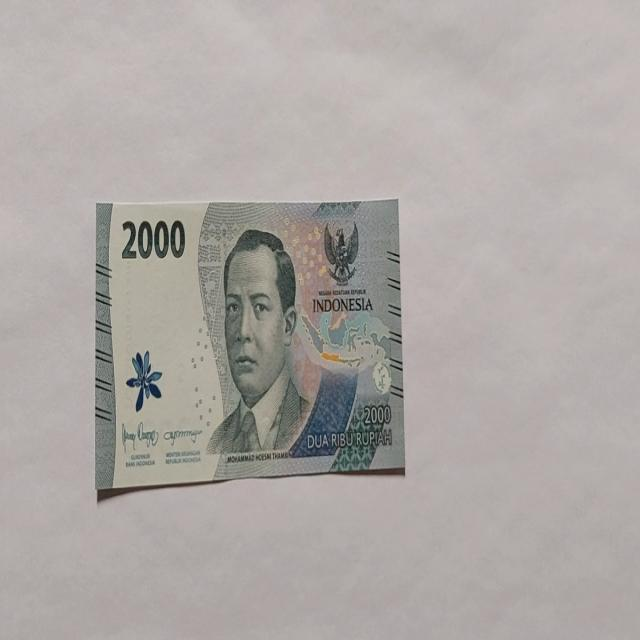dua ribu rupiah: (95, 198, 404, 494), (204, 228, 314, 460)
